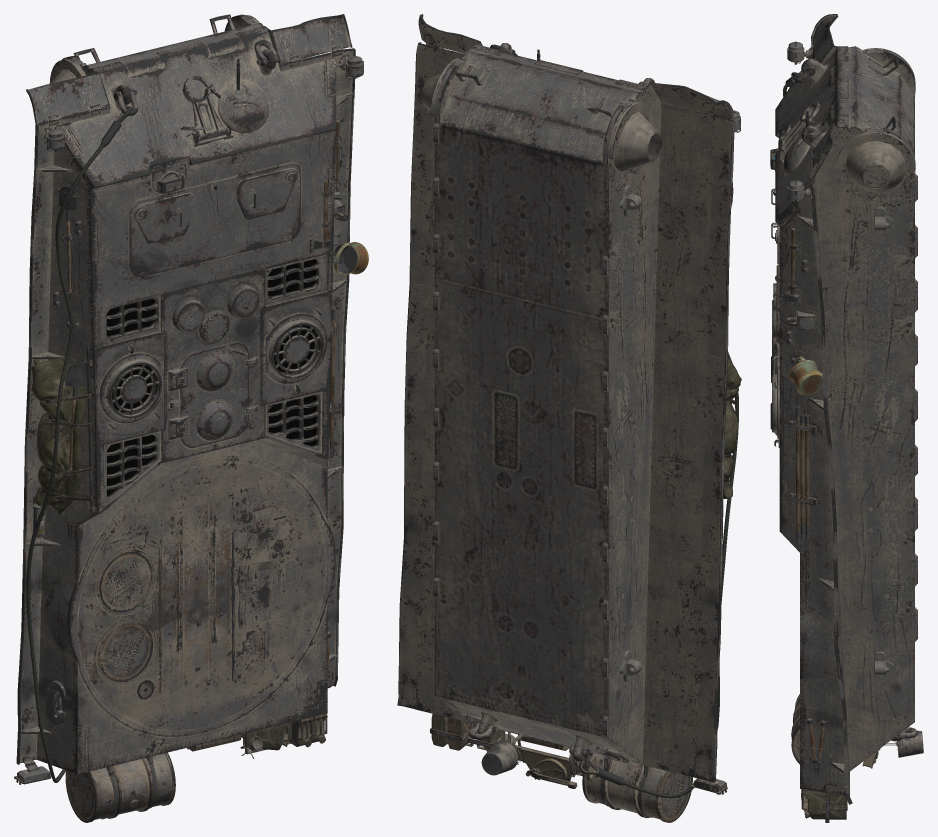
Rendered from Hull.glb.
3 renders of one model, left to right at view 1: azimuth 30°, elevation 25°; view 2: azimuth 150°, elevation 25°; view 3: azimuth 270°, elevation 25°, orthographic. The views are drawn at different scales.
Parts seen in each view (by area): view 1: set_0_group_0, set_0_group_1; view 2: set_0_group_0, set_0_group_1; view 3: set_0_group_0, set_0_group_1.
Boxes of the visible parts, left/top/right/bottom form: set_0_group_0: left=14, top=14, right=363, bottom=822; set_0_group_1: left=31, top=120, right=368, bottom=819; set_0_group_0: left=397, top=14, right=740, bottom=822; set_0_group_1: left=431, top=359, right=741, bottom=817; set_0_group_0: left=770, top=14, right=917, bottom=822; set_0_group_1: left=776, top=228, right=923, bottom=819.
Bounding box in the file's own units: 3.64 × 7.86 × 1.54.
2 materials, 2 textured.
